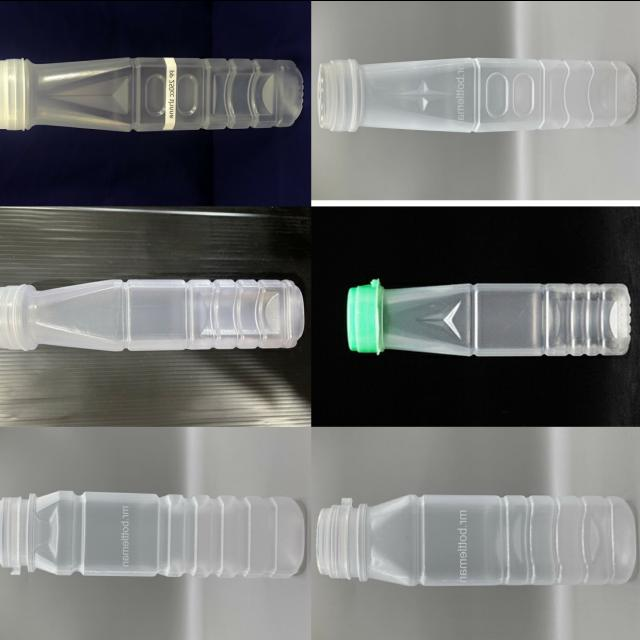plastik: (317, 494, 635, 584), (0, 490, 305, 578), (318, 57, 635, 131), (0, 56, 303, 131), (346, 278, 630, 356), (0, 278, 303, 350)
